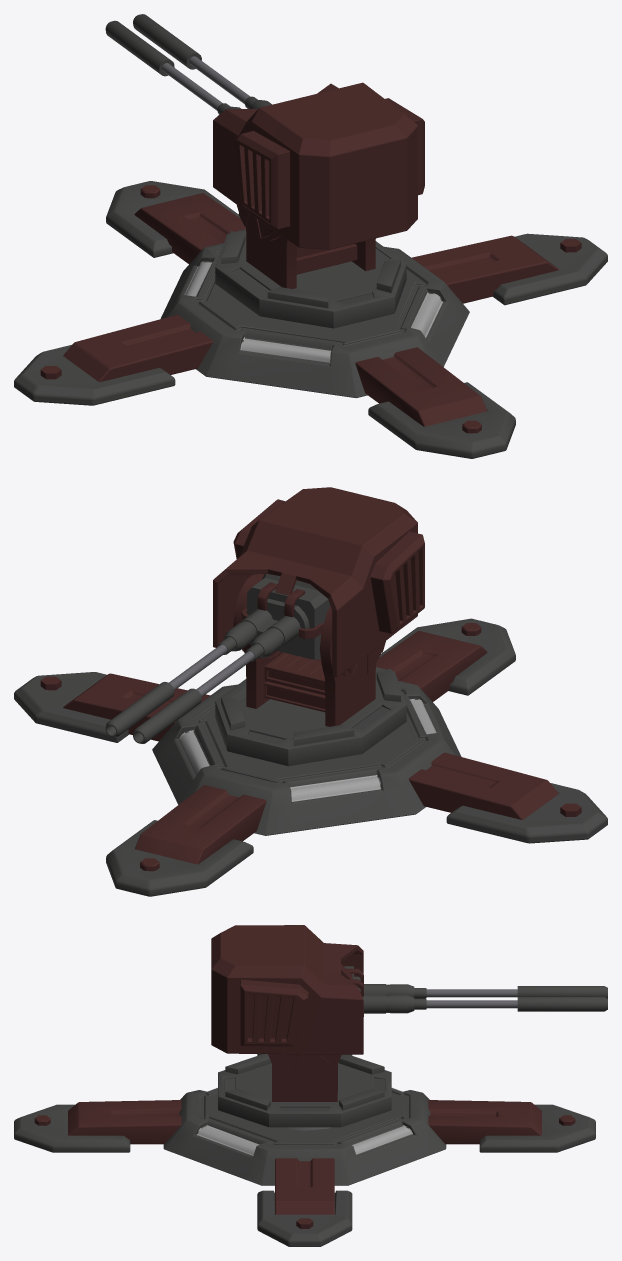
File: турель.fbx
The picture shows the model from 3 angles, top to bottom: view 1: azimuth 30°, elevation 25°; view 2: azimuth 150°, elevation 25°; view 3: azimuth 270°, elevation 25°; orthographic projection. The views are drawn at different scales.
Parts seen in each view (by area): view 1: a cap, base, legs1, legs.001, Cube.003, Cylinder.005, legs, computer, Cylinder.003; view 2: a cap, base, legs.001, legs1, Cube.003, Cylinder.005, legs, computer, turel, Cylinder.003, Cylinder.004, Cube.008; view 3: a cap, base, legs.001, Cube.003, legs1, Cylinder.005, legs, Cylinder.003.
Boxes of the visible parts, x1,y1,x2,y2 form: a cap: [213, 82, 424, 249]; base: [160, 243, 469, 398]; legs1: [14, 233, 607, 405]; legs.001: [106, 181, 515, 458]; Cube.003: [215, 229, 406, 328]; Cylinder.005: [105, 14, 271, 114]; legs: [246, 227, 375, 288]; computer: [296, 243, 357, 274]; Cylinder.003: [237, 205, 281, 241]; a cap: [213, 487, 424, 677]; base: [152, 680, 461, 835]; legs.001: [106, 618, 515, 896]; legs1: [14, 672, 607, 843]; Cube.003: [215, 667, 406, 766]; Cylinder.005: [105, 609, 300, 743]; legs: [243, 574, 375, 726]; computer: [264, 652, 325, 712]; turel: [247, 574, 330, 659]; Cylinder.003: [233, 574, 385, 679]; Cylinder.004: [248, 598, 309, 645]; Cube.008: [257, 582, 305, 617]; a cap: [211, 925, 363, 1054]; base: [163, 1087, 446, 1185]; legs.001: [14, 1100, 595, 1152]; Cube.003: [218, 1054, 391, 1127]; legs1: [257, 1053, 352, 1246]; Cylinder.005: [362, 984, 607, 1013]; legs: [268, 1054, 341, 1101]; Cylinder.003: [273, 1054, 337, 1072].
Size of the model in its own units: 210 by 80.37 by 231.
